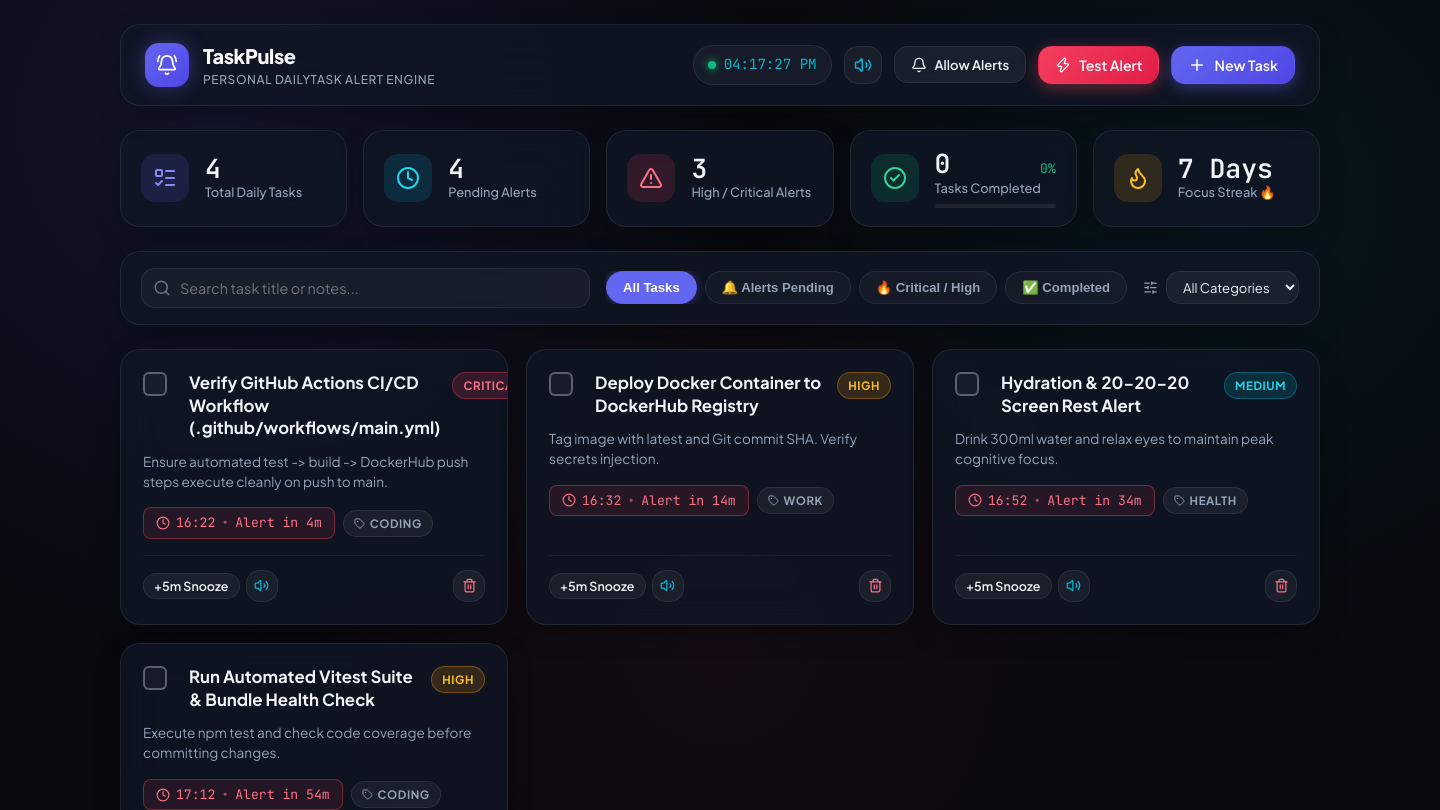
Scenario: TaskPulse App - Personal DailyTask Alert Engine › allows adding a new task through the modal
Click the button "New Task".
click(1233, 65)  # box [1172,46,1295,84]
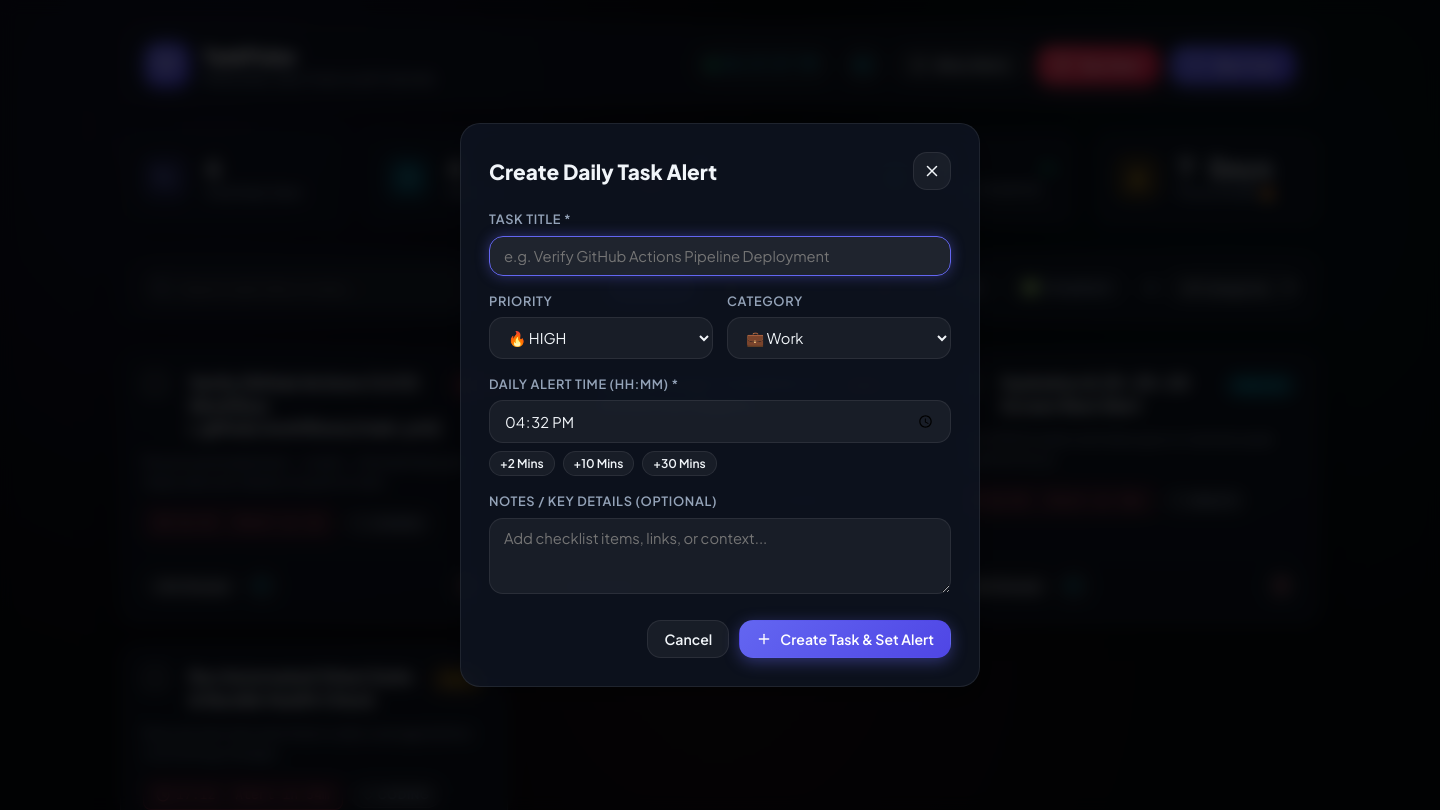
Result: the heading "Create Daily Task Alert" is shown at [489,156,717,187]
Type "Complete Elevate Lab CI/CD Project" into the field labelled "Task Title *".
click(720, 256); type("Complete Elevate Lab CI/CD Project")  # box [489,236,951,276]
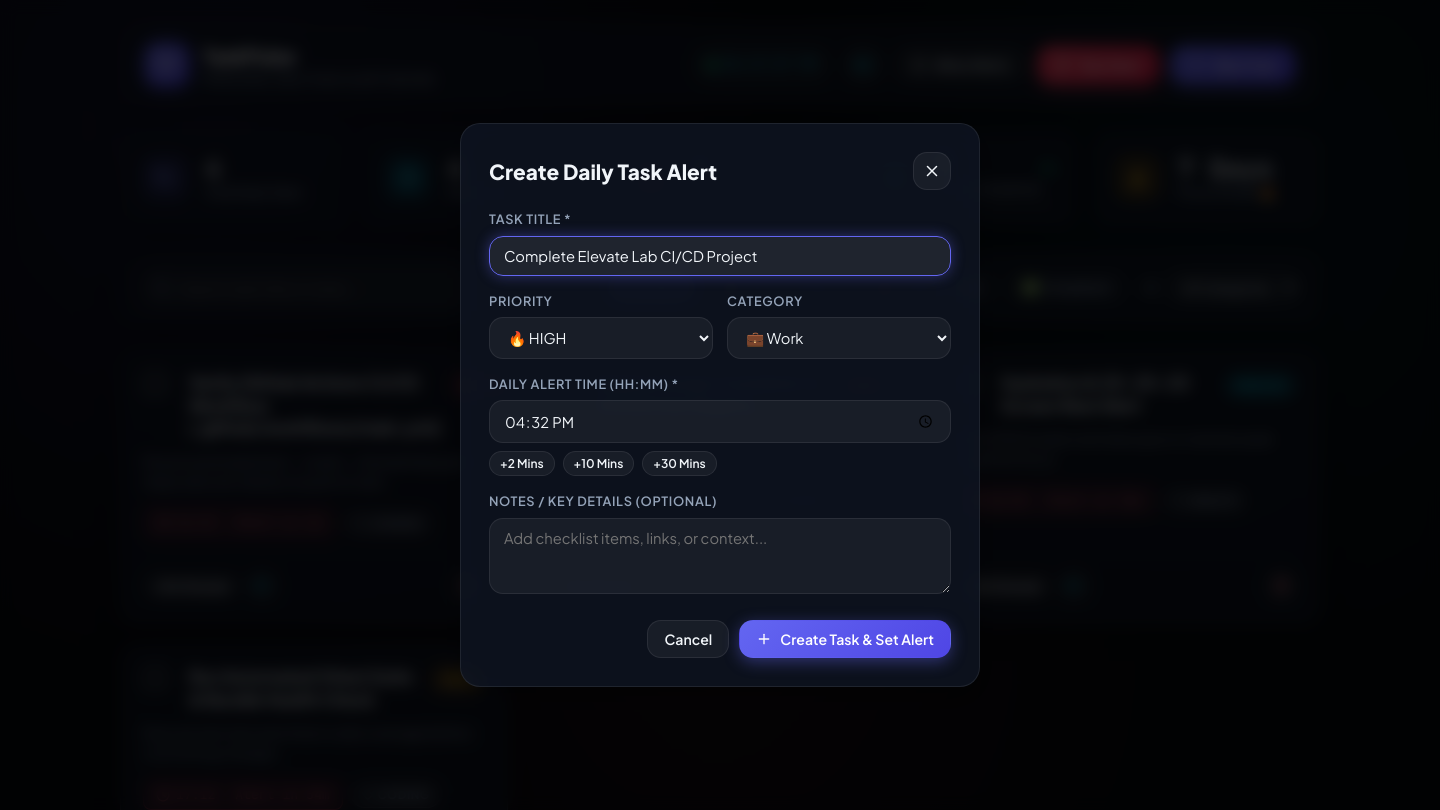
Submit the form, box [489,210,951,658]
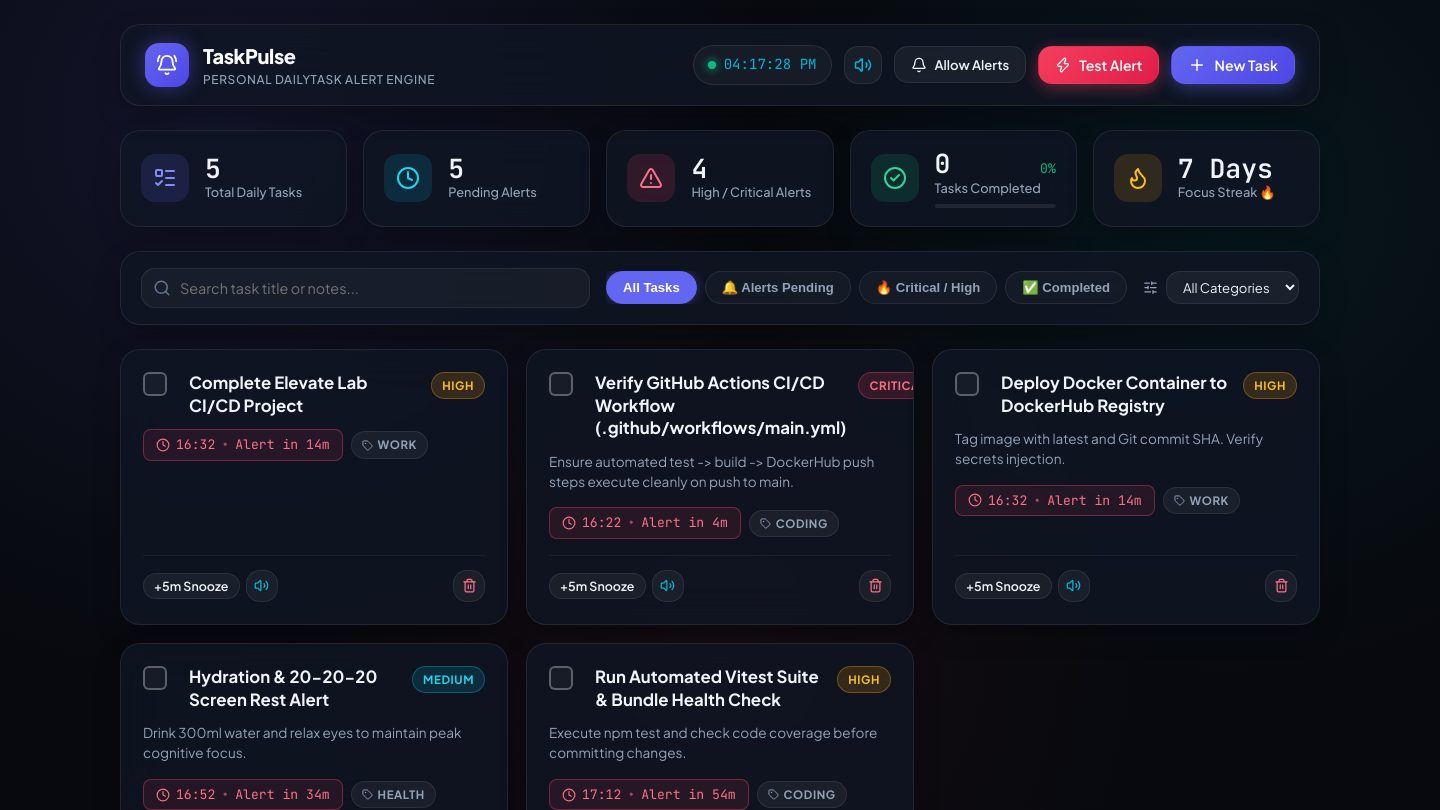
Result: the heading "Complete Elevate Lab CI/CD Project" is shown at [189,372,367,416]
